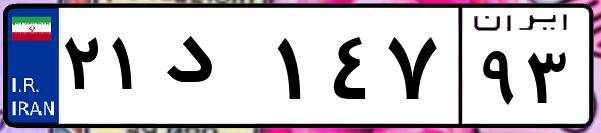1: (270, 28, 330, 110), (110, 28, 158, 98)
2: (57, 26, 110, 100)
3: (525, 38, 570, 115)
4: (330, 28, 385, 110)
7: (385, 28, 445, 110)
9: (475, 38, 525, 113)
د: (158, 20, 270, 120)
